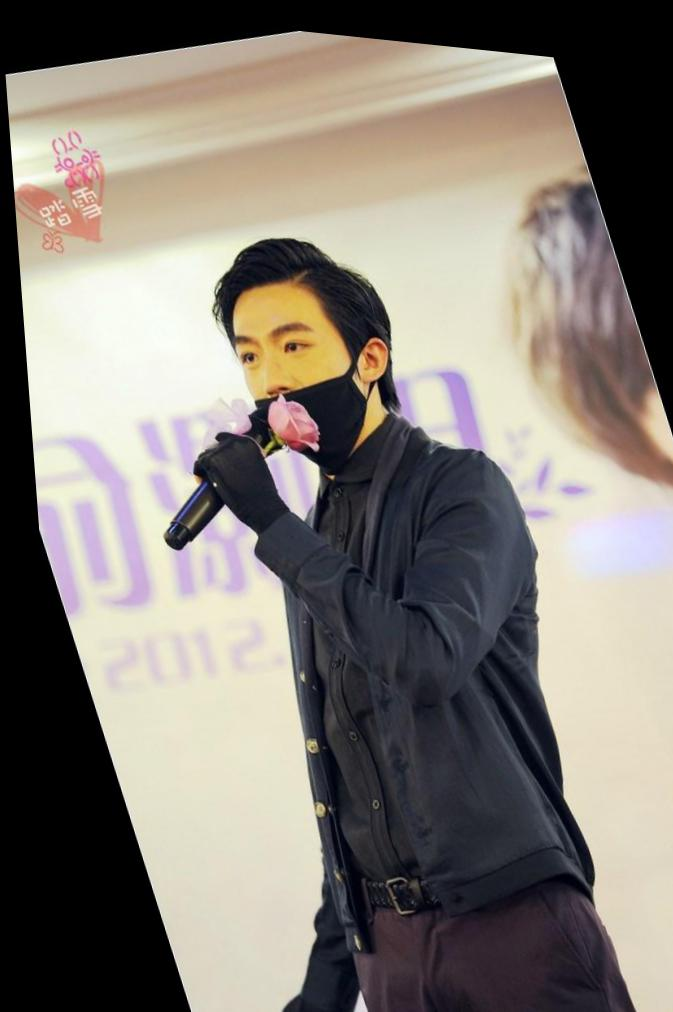WRONG: (213, 283, 393, 466)
